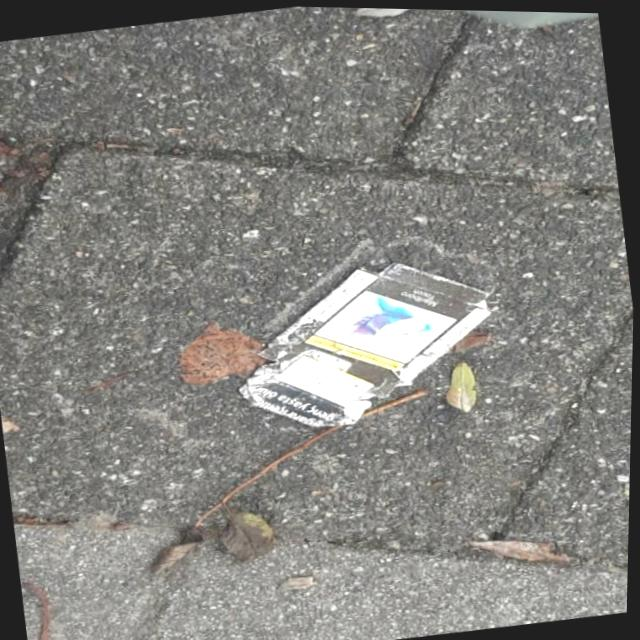Paper: (222, 242, 512, 443)
